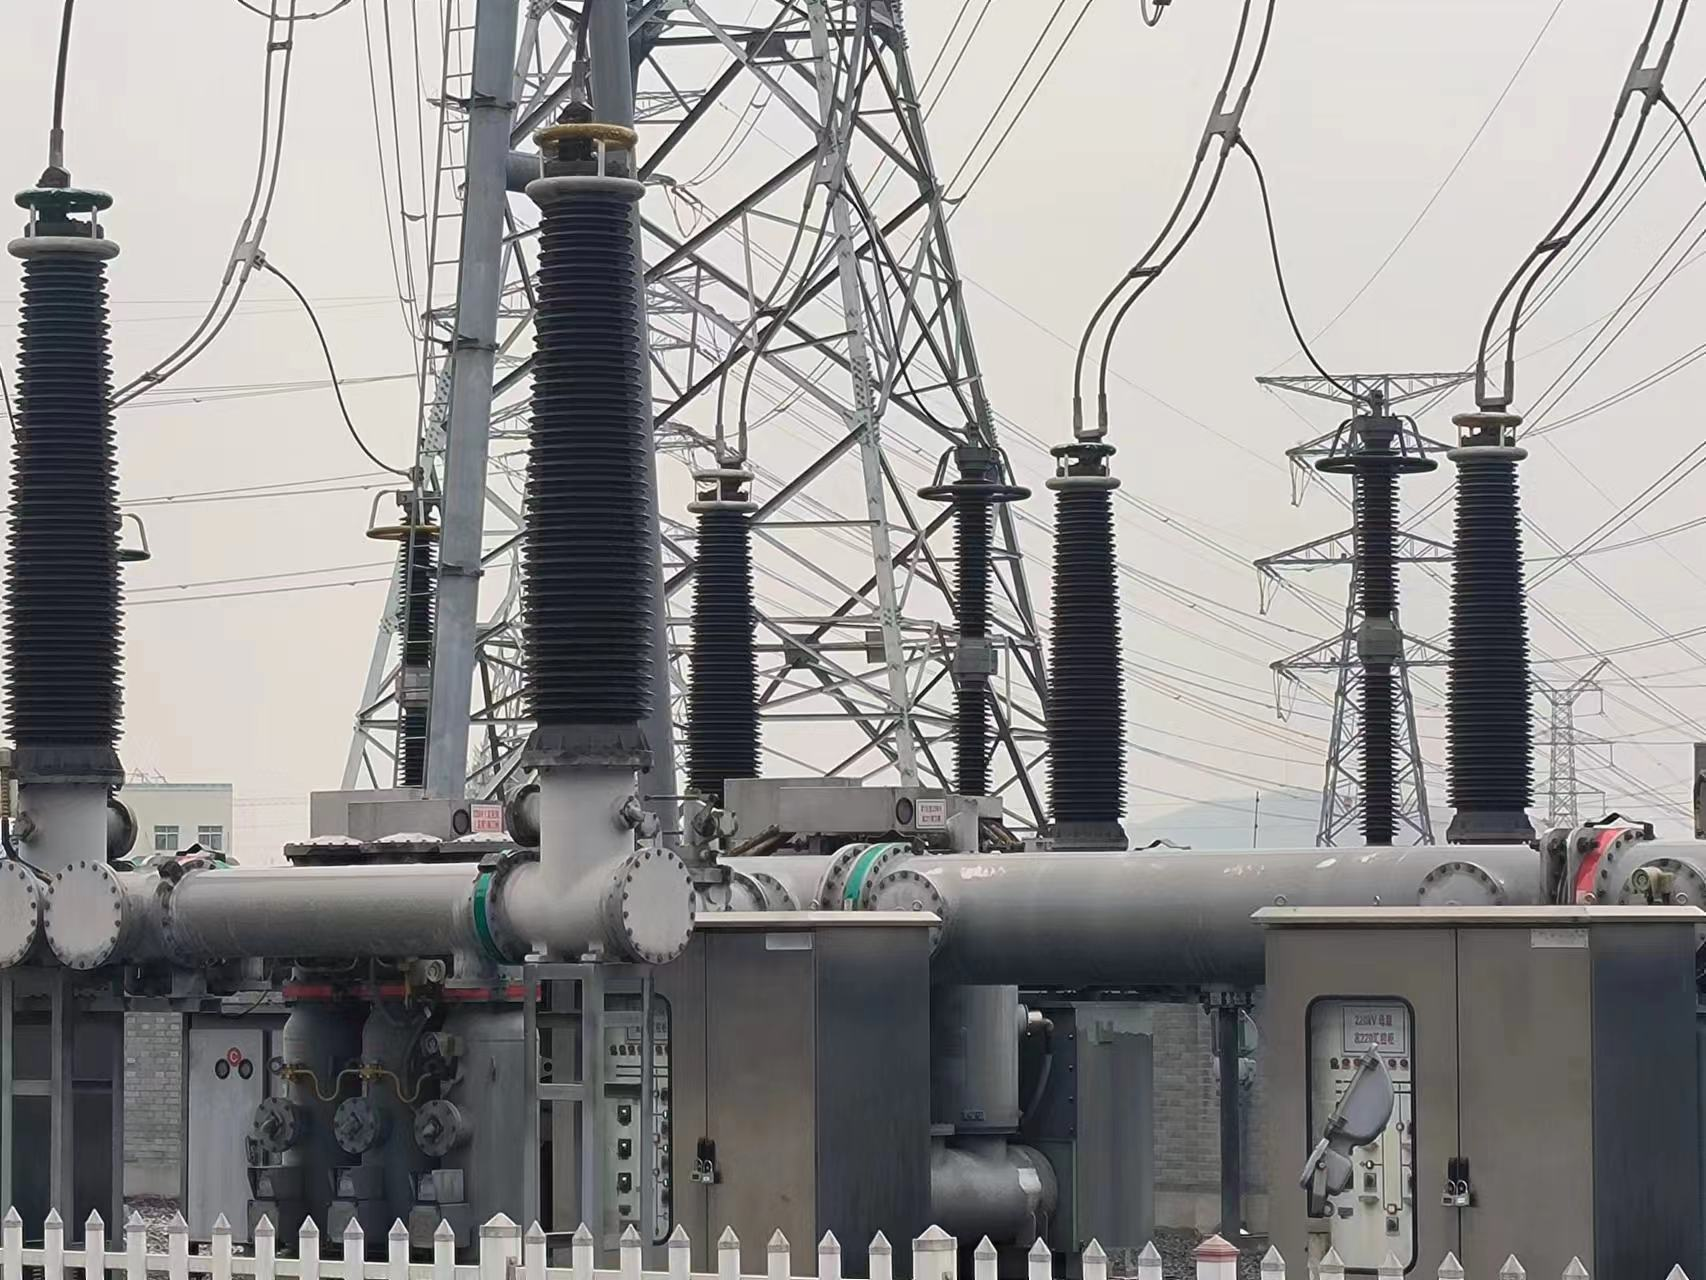Arrester: (1316, 393, 1441, 843), (917, 424, 1037, 799), (682, 467, 764, 797)
Voltage transformer: (522, 121, 652, 770), (3, 186, 128, 787), (1445, 406, 1537, 843), (1043, 441, 1128, 852)
